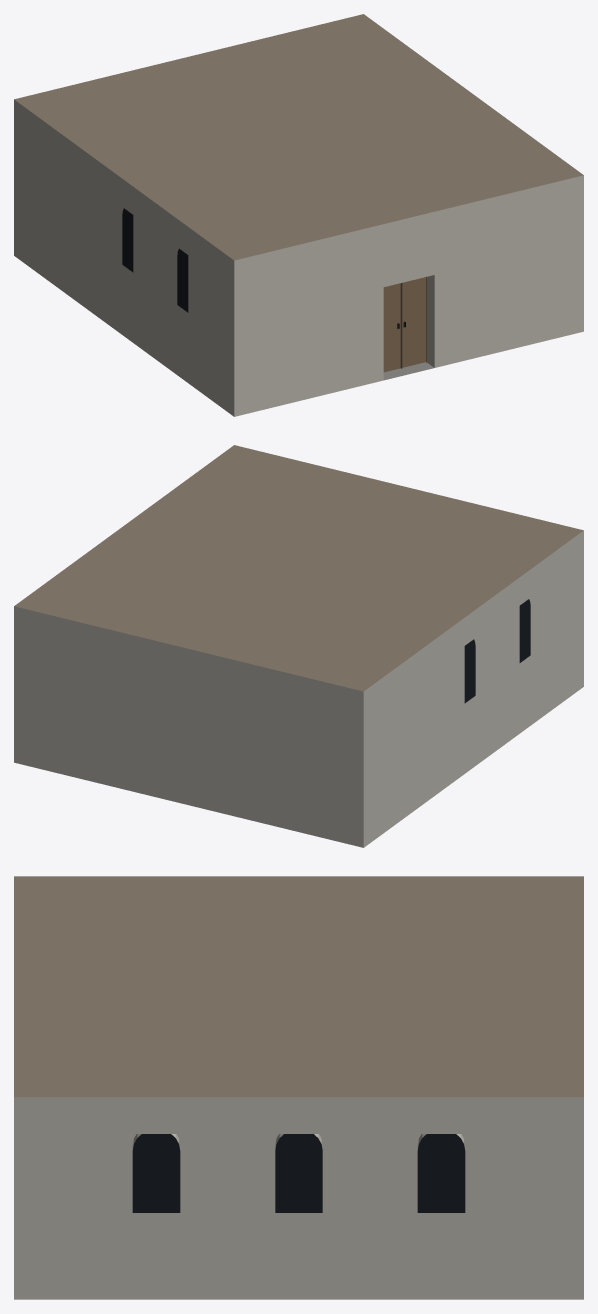
The model's file is rathaus_innen.glb.
3 views of the same model, one above another, from view 1: azimuth 30°, elevation 25°; view 2: azimuth 150°, elevation 25°; view 3: azimuth 270°, elevation 25° (orthographic). The views are drawn at different scales.
Parts seen in each view (by area): view 1: Raum_Rat, Decke_Rat, Saaltuer; view 2: Raum_Rat, Decke_Rat; view 3: Decke_Rat, Raum_Rat.
Part boxes in pixels (<box>): Raum_Rat: <box>14,99,583,416</box>; Decke_Rat: <box>14,14,583,260</box>; Saaltuer: <box>383,277,426,372</box>; Raum_Rat: <box>14,530,583,847</box>; Decke_Rat: <box>14,445,583,691</box>; Decke_Rat: <box>14,876,583,1097</box>; Raum_Rat: <box>14,1097,583,1299</box>.
Bounding box in the file's own units: 11 × 4.71 × 12.
